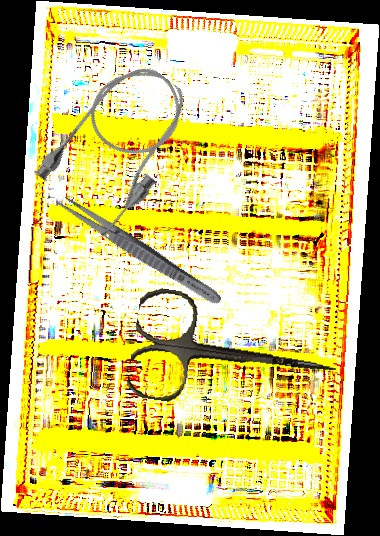Cannula: (27, 48, 211, 243)
Dressing Forceps: (52, 191, 225, 309)
Iris Scissors: (125, 285, 344, 427)
